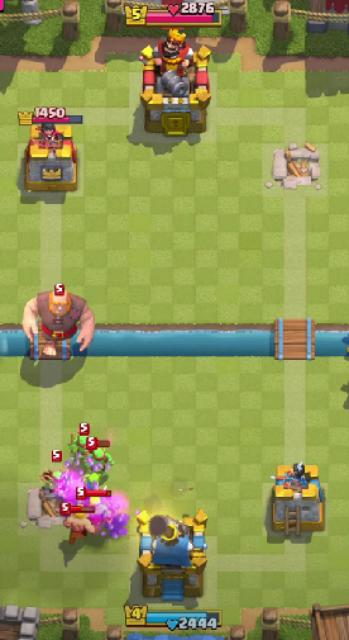enemy_melee: (22, 282, 97, 356), (76, 488, 115, 531), (42, 449, 73, 503), (63, 502, 97, 545), (84, 438, 115, 477), (70, 421, 94, 462)
